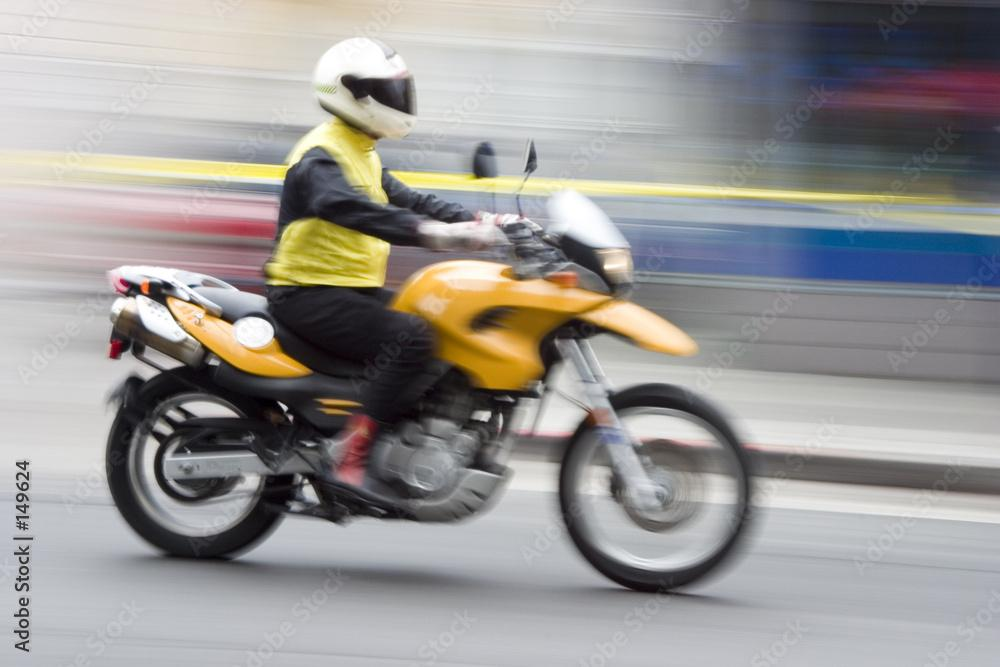helmet: (314, 36, 420, 141)
